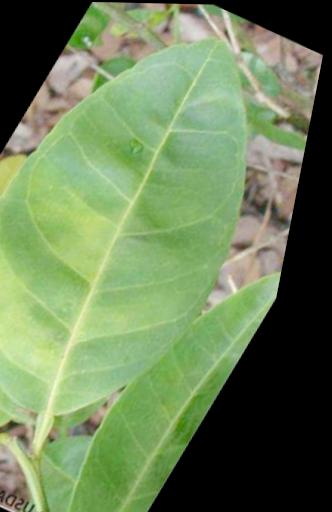Citrus Greening: (0, 0, 332, 455)
